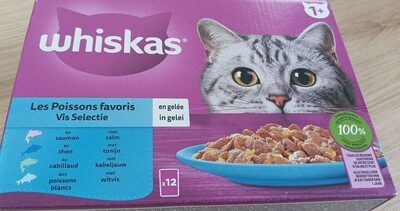Whiskas 1+ Vis selectie in gelei: (20, 11, 380, 200)
